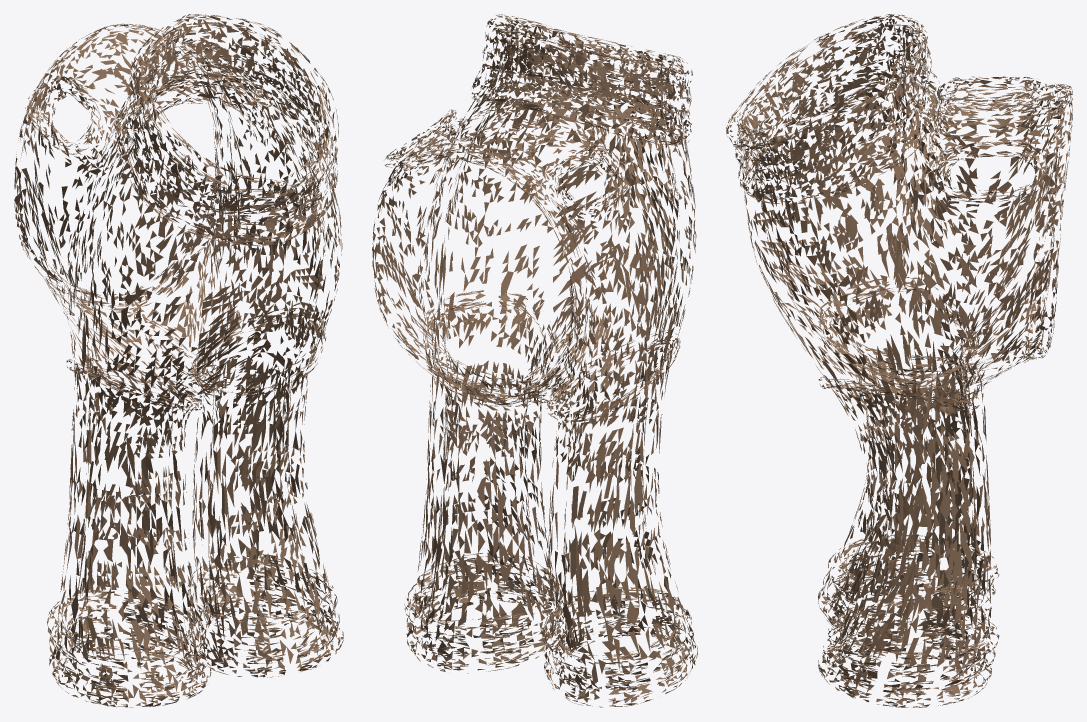
Rendered from costume_base4.obj.
3 renders of one model, left to right at view 1: azimuth 30°, elevation 25°; view 2: azimuth 150°, elevation 25°; view 3: azimuth 270°, elevation 25°, orthographic. The views are drawn at different scales.
Visible parts, largest first — view 1: vn_commander_uniform_body7_model0; view 2: vn_commander_uniform_body7_model0; view 3: vn_commander_uniform_body7_model0.
Part boxes in pixels (bbox=[...]): vn_commander_uniform_body7_model0: bbox=[14, 14, 343, 707]; vn_commander_uniform_body7_model0: bbox=[372, 14, 697, 707]; vn_commander_uniform_body7_model0: bbox=[726, 14, 1072, 707].
Size of the model in its own units: 13.08 by 29.99 by 15.14.
